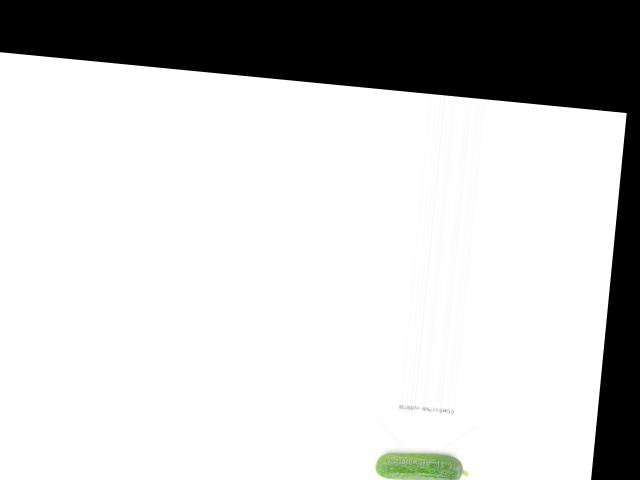cucumber: (373, 447, 470, 480)
